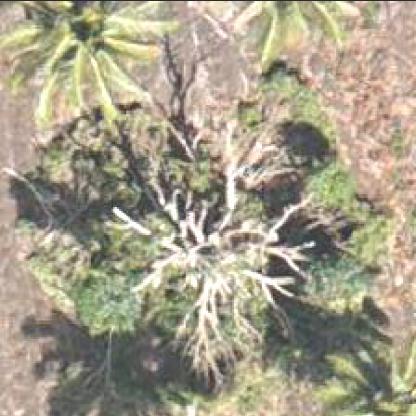coconut tree: (2, 2, 186, 132)
